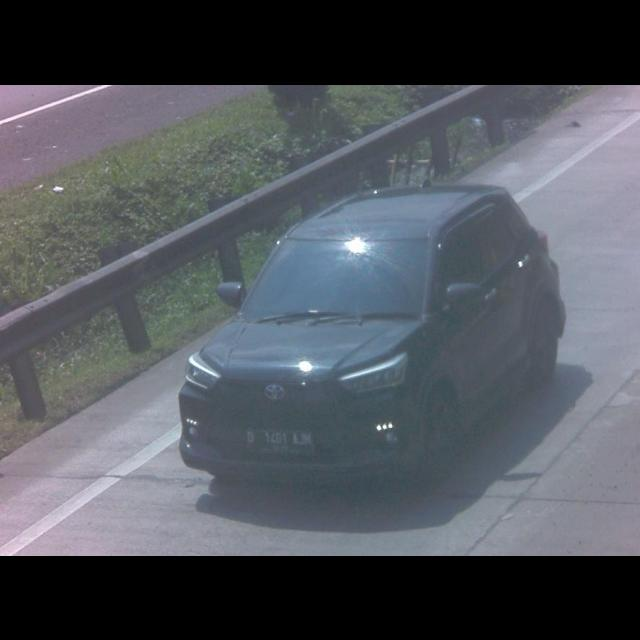plate: (243, 427, 314, 455)
